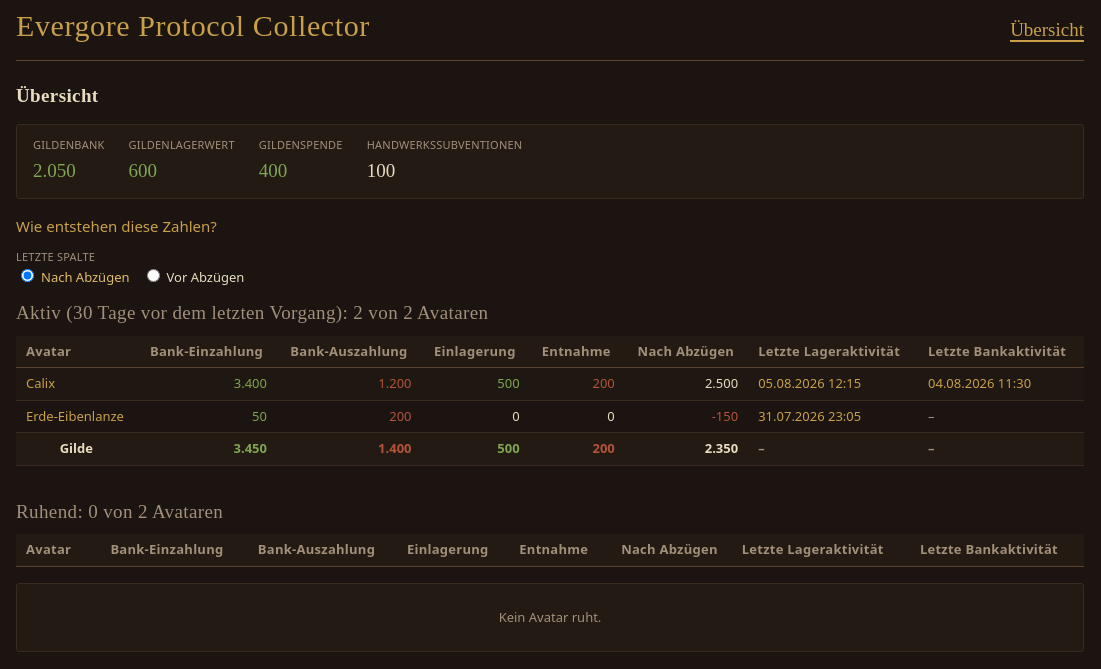
Test case: App › states the guild's figure before the deductions in the total row as the server rounded it
The image size is (1101, 669).
Step 1. Click the radio button labelled "Vor Abzügen" → (153, 275), box [146, 269, 160, 282]
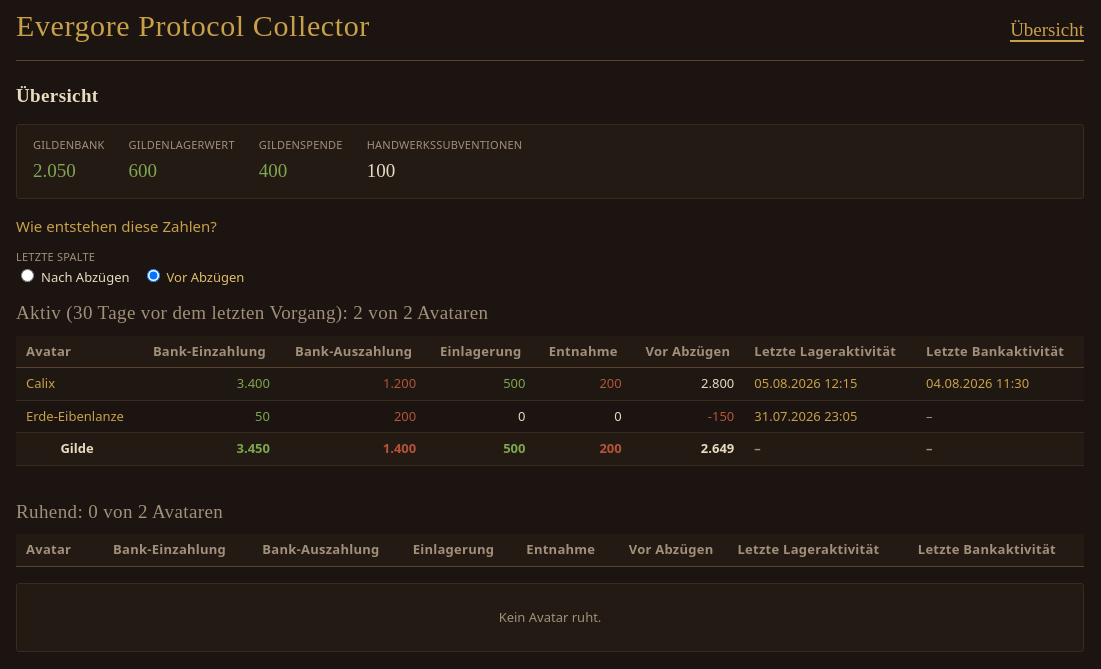
Now the row with test id "total-row" shows "2.649", box [701, 439, 734, 457]
